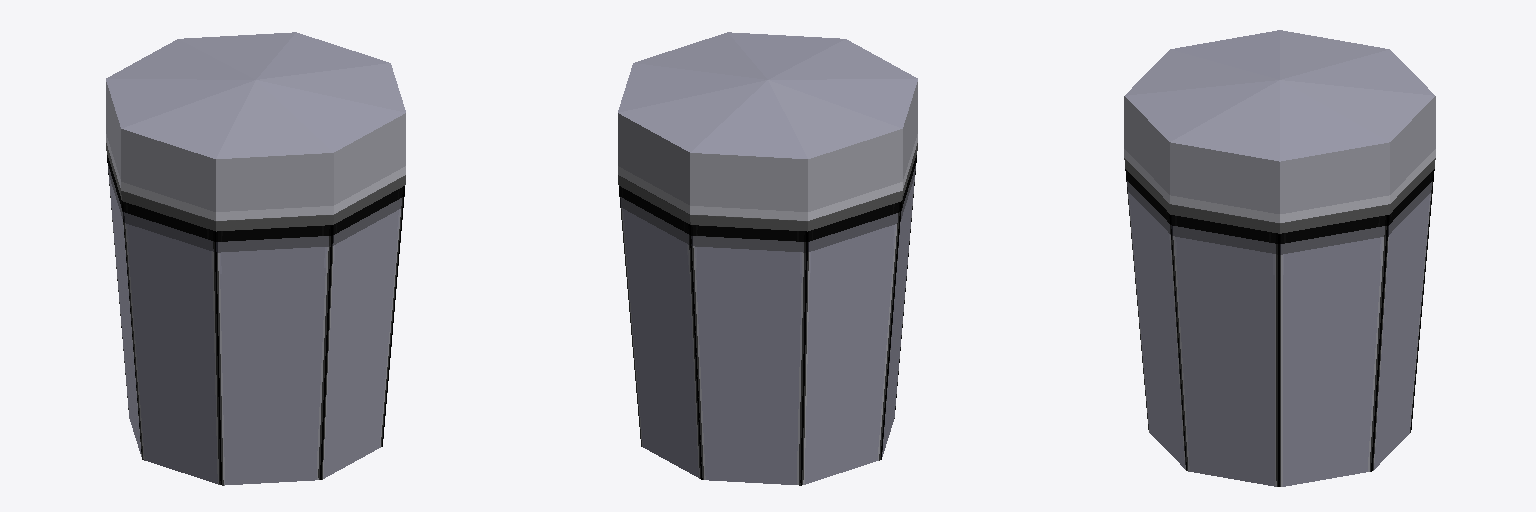
3 views of the same model, side by side, from view 1: azimuth 30°, elevation 25°; view 2: azimuth 150°, elevation 25°; view 3: azimuth 270°, elevation 25° (orthographic).
Visible parts, largest first — view 1: Cylinder; view 2: Cylinder; view 3: Cylinder.
Part boxes in pixels (bbox=[...]): Cylinder: bbox=[106, 32, 405, 485]; Cylinder: bbox=[618, 32, 917, 485]; Cylinder: bbox=[1124, 30, 1435, 486].
Size of the model in its own units: 2 by 2.5 by 2.
Materials: 1 (1 with a texture image).